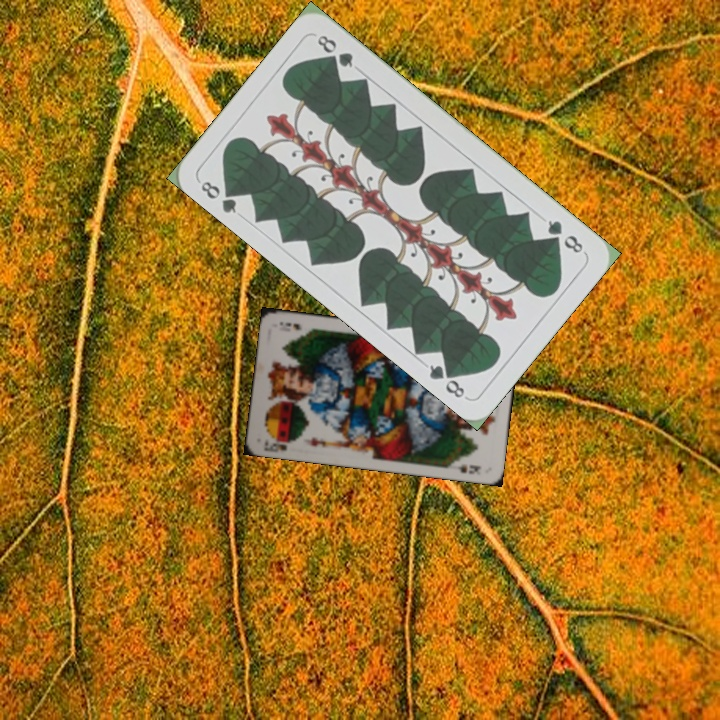G8: (543, 216, 587, 257), (196, 177, 242, 216)
SK: (260, 435, 289, 453)
